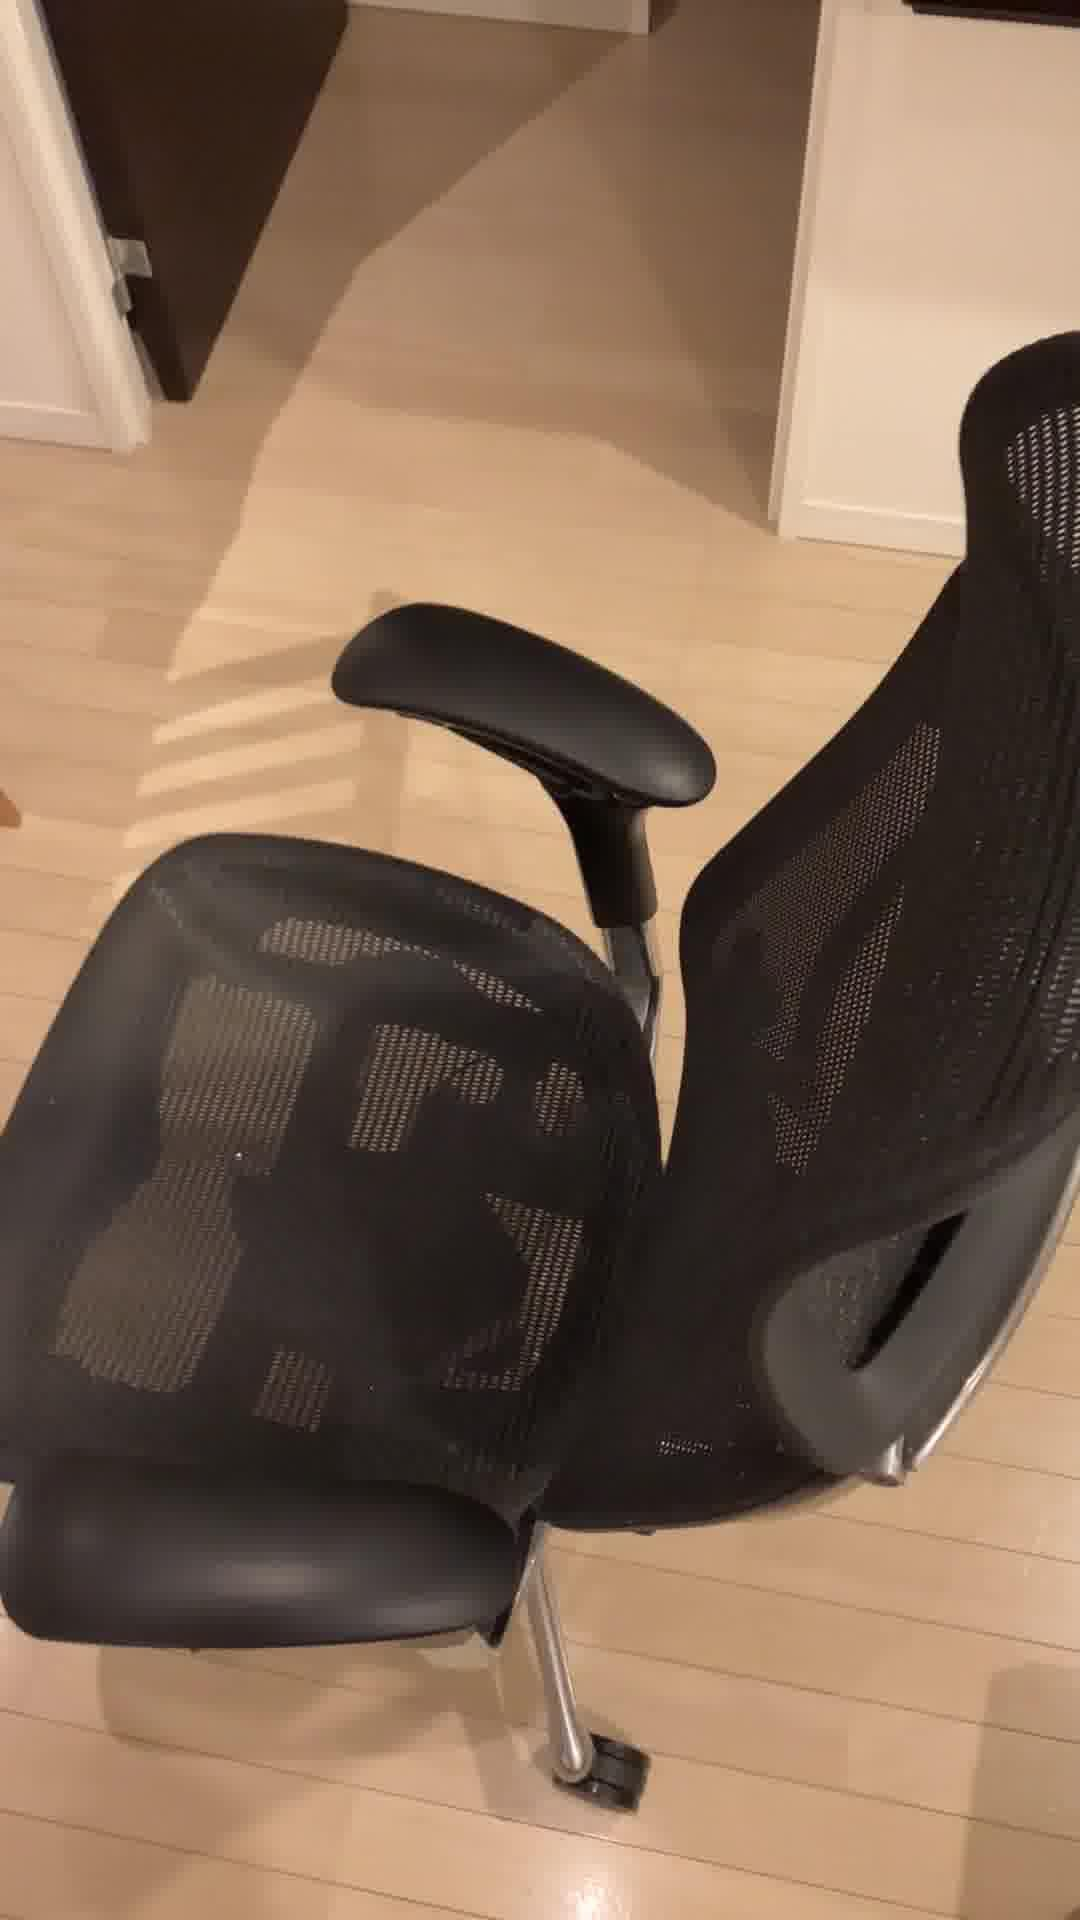okamura-contessa: (0, 324, 1080, 1818)
